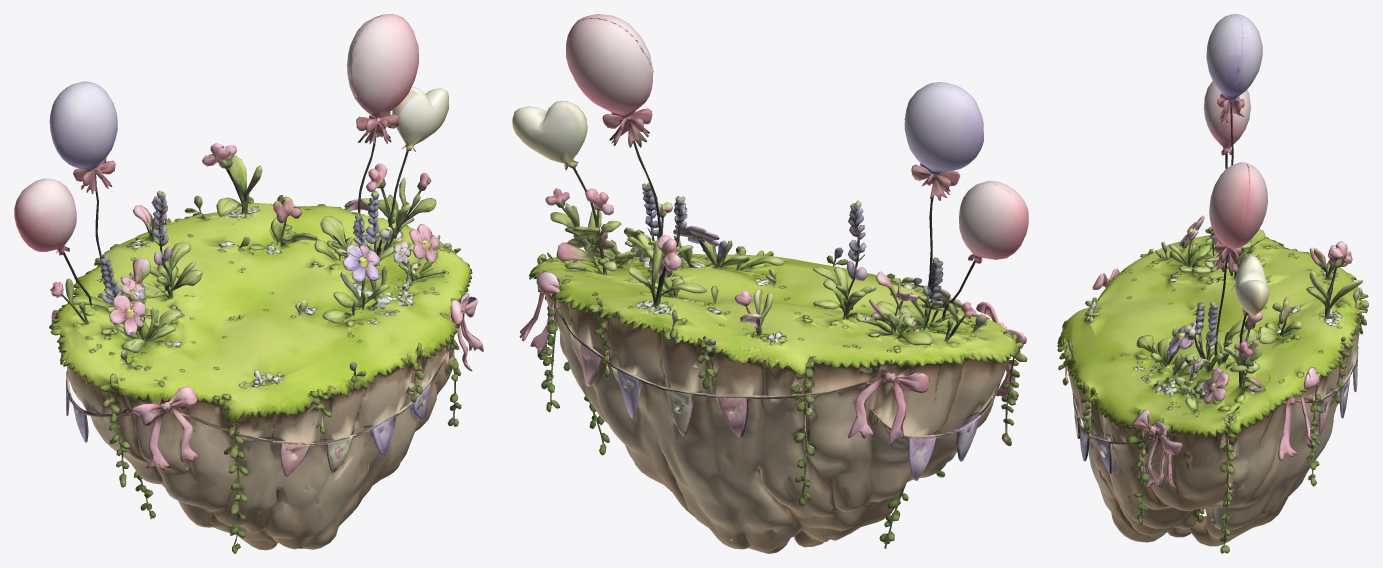
Rendered from fountain.glb.
The picture shows the model from 3 angles, left to right: view 1: azimuth 30°, elevation 25°; view 2: azimuth 150°, elevation 25°; view 3: azimuth 270°, elevation 25°; orthographic projection. The views are drawn at different scales.
Parts seen in each view (by area): view 1: tripo_node_71031d2d-e84c-4235-8cde-ce257fbc70af; view 2: tripo_node_71031d2d-e84c-4235-8cde-ce257fbc70af; view 3: tripo_node_71031d2d-e84c-4235-8cde-ce257fbc70af.
Boxes of the visible parts, x1,y1,x2,y2 form: tripo_node_71031d2d-e84c-4235-8cde-ce257fbc70af: (14, 14, 483, 553); tripo_node_71031d2d-e84c-4235-8cde-ce257fbc70af: (512, 14, 1028, 553); tripo_node_71031d2d-e84c-4235-8cde-ce257fbc70af: (1057, 14, 1368, 553).
Size of the model in its own units: 0.8975 by 0.9114 by 0.5735.
Materials: 1 (1 with a texture image).
